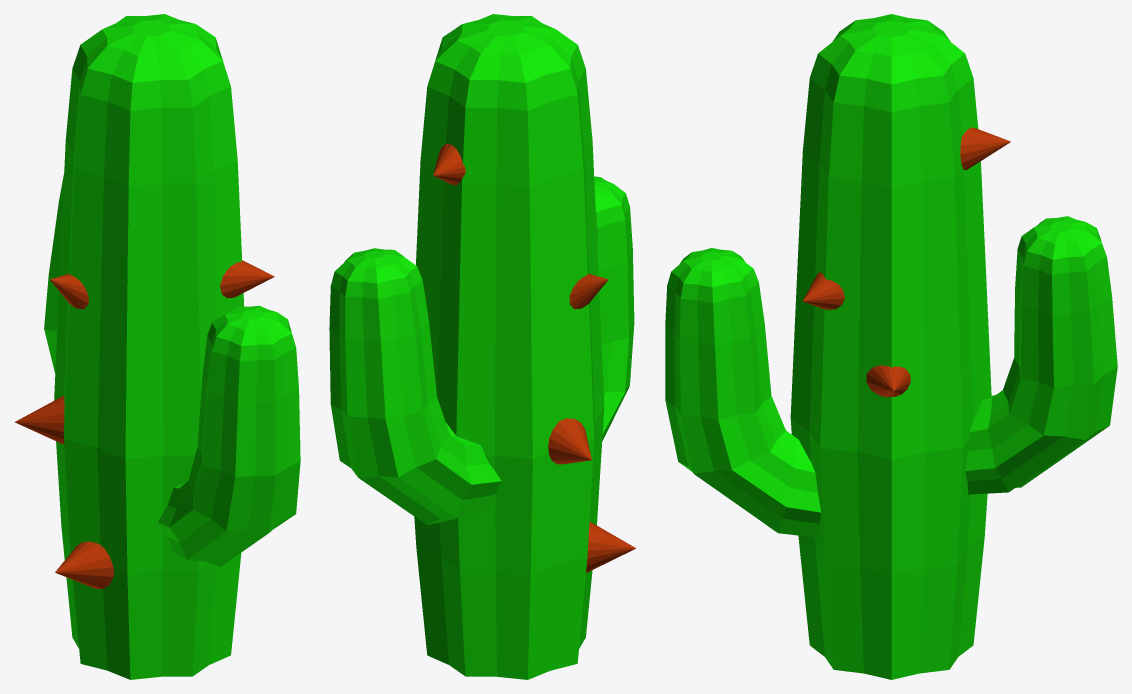
The model's file is cactus3.fbx.
3 renders of one model, left to right at view 1: azimuth 30°, elevation 25°; view 2: azimuth 150°, elevation 25°; view 3: azimuth 270°, elevation 25°, orthographic.
Parts seen in each view (by area): view 1: Cylinder.001, Cylinder.002, Cone.002, Cylinder, Cone, Cone.004, Cone.003; view 2: Cylinder.001, Cylinder, Cylinder.002, Cone, Cone.002, Cone.001, Cone.003; view 3: Cylinder.001, Cylinder.002, Cylinder, Cone.001, Cone.005, Cone.004.
Boxes of the visible parts, box(x1,y1,x2,y2) form: Cylinder.001: box(54, 14, 244, 679); Cylinder.002: box(158, 305, 300, 566); Cone.002: box(55, 541, 113, 588); Cylinder: box(44, 173, 64, 373); Cone: box(14, 395, 64, 444); Cone.004: box(220, 260, 274, 298); Cone.003: box(49, 273, 88, 309); Cylinder.001: box(414, 14, 604, 679); Cylinder: box(329, 248, 501, 524); Cylinder.002: box(594, 176, 634, 440); Cone: box(548, 418, 591, 464); Cone.002: box(586, 522, 635, 572); Cone.001: box(433, 143, 465, 184); Cone.003: box(569, 273, 608, 309); Cylinder.001: box(790, 14, 991, 679); Cylinder.002: box(665, 248, 821, 537); Cylinder: box(965, 216, 1117, 494); Cone.001: box(960, 127, 1010, 169); Cone.005: box(866, 365, 910, 397); Cone.004: box(802, 272, 844, 309).
Size of the model in its own units: 317 by 830 by 553.
